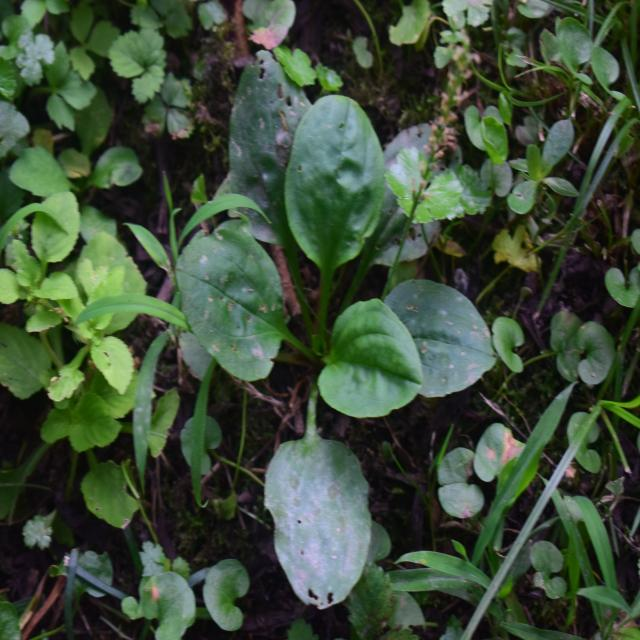plantain: (194, 70, 456, 568)
